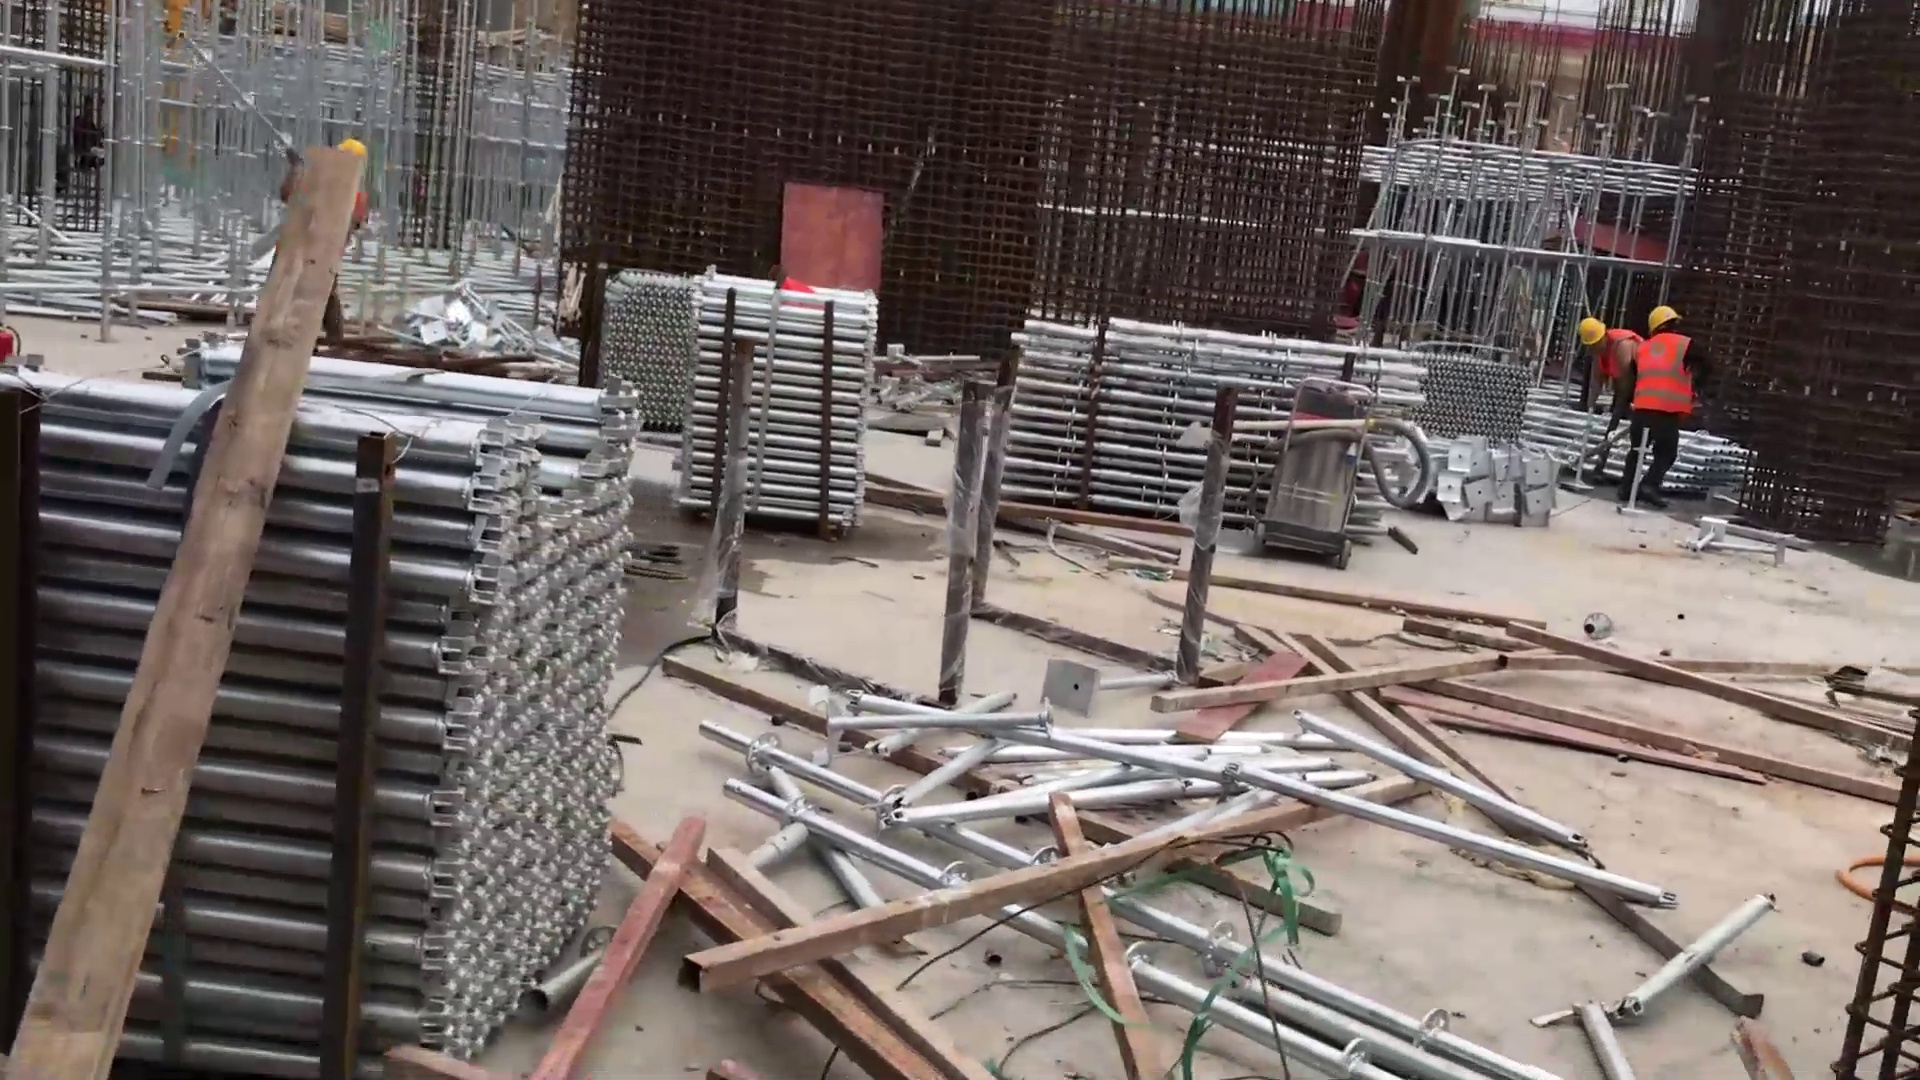board: (782, 174, 887, 316)
helmet: (1643, 296, 1682, 331), (1572, 306, 1603, 349)
person: (1635, 303, 1705, 526), (1577, 308, 1637, 402)
scaffold: (8, 327, 643, 1076), (1008, 309, 1430, 561), (599, 260, 880, 534), (1516, 393, 1746, 505), (1411, 347, 1531, 450)
vest: (1603, 329, 1706, 425)
wood: (1222, 612, 1798, 787), (625, 790, 925, 1078)
